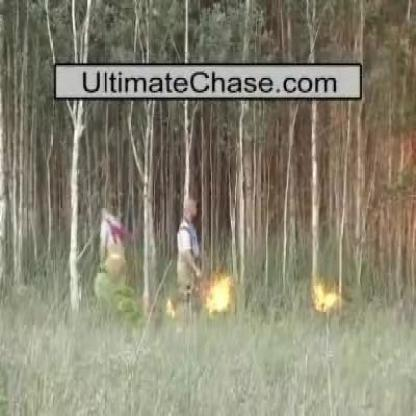foggia-v2-map80-epoch100 - v1 4323: (207, 279, 231, 313), (314, 282, 338, 314)
